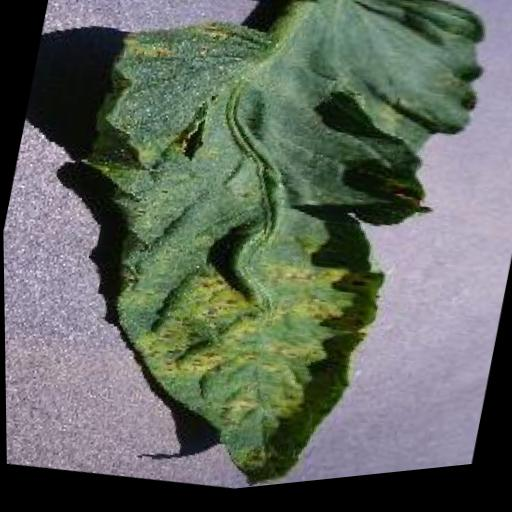Septoria: (30, 0, 503, 510)
